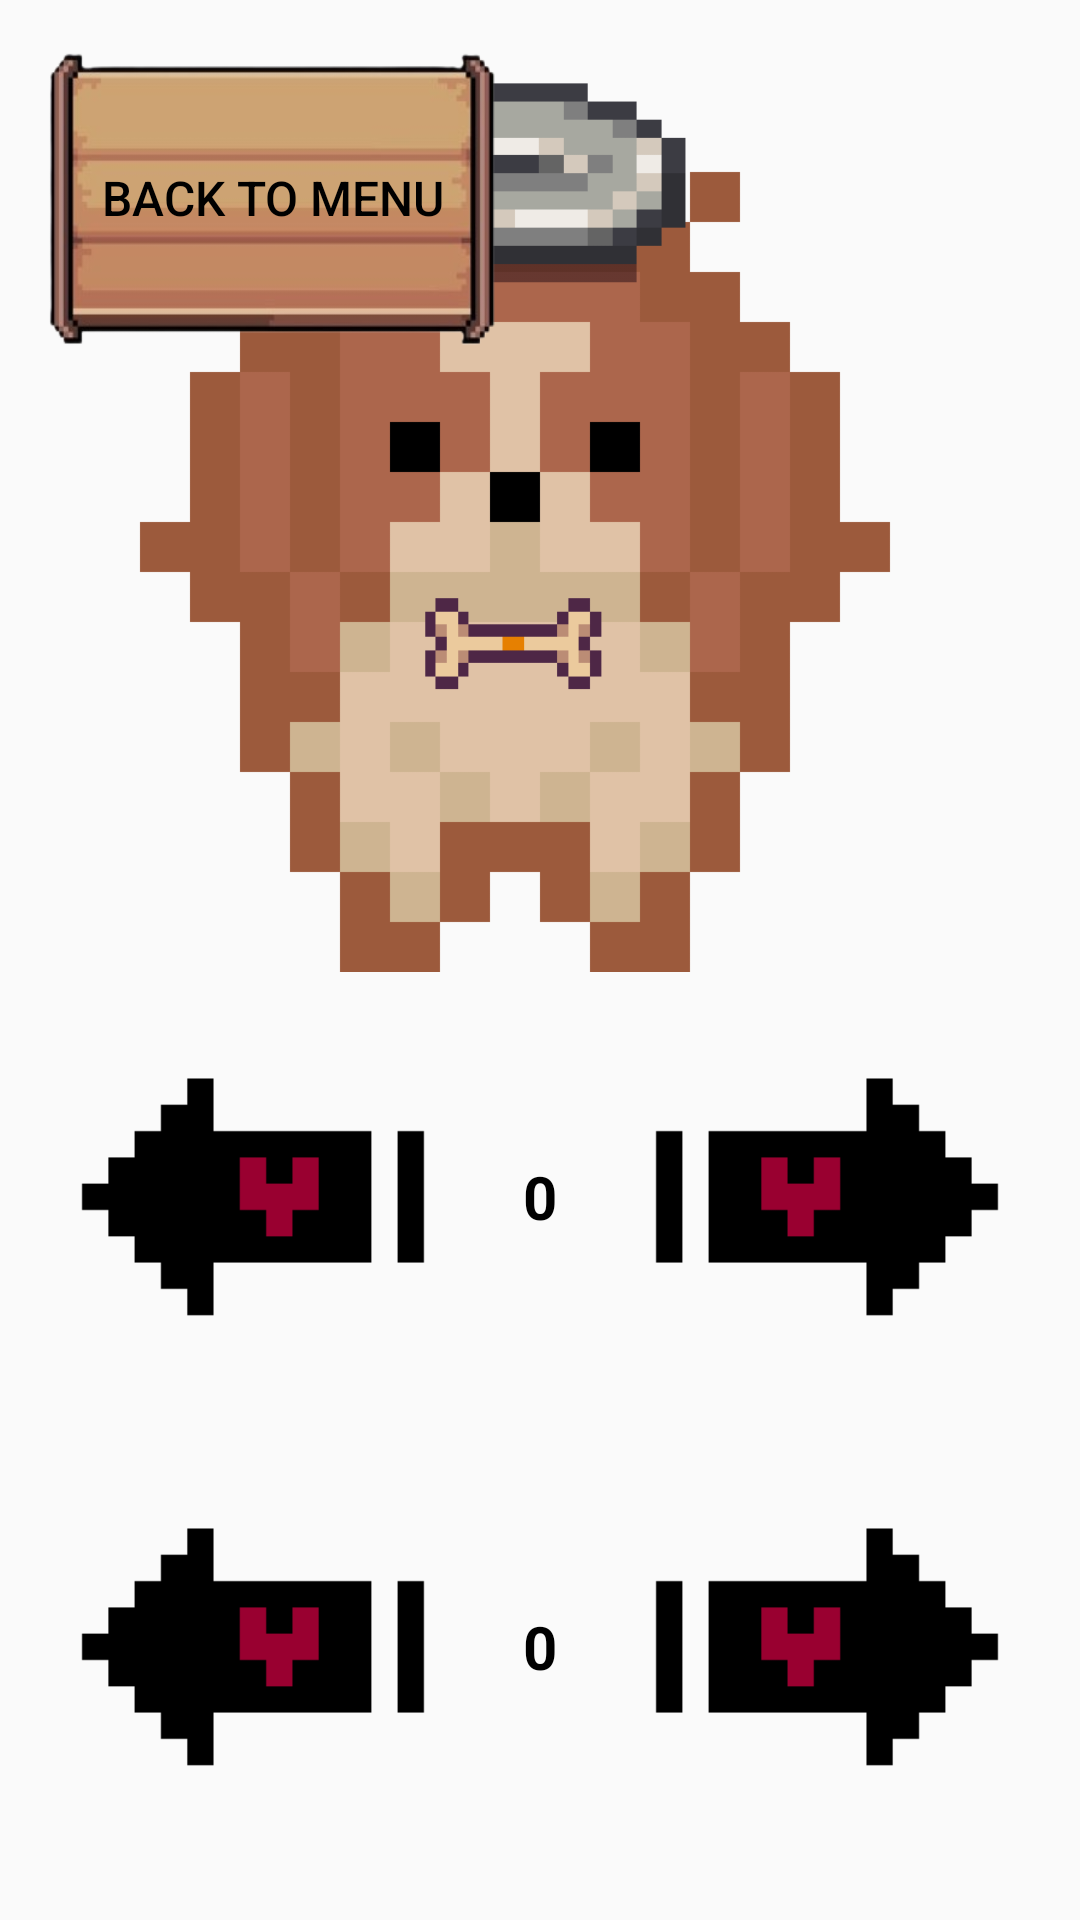

Locate icon controls on the screen. Image size 1080px x 1920px, boxes as (x1, y1, x2, y2).
arrow left: (81, 1078, 425, 1316), (81, 1528, 425, 1766)
arrow right: (655, 1078, 999, 1316), (655, 1528, 999, 1766)
